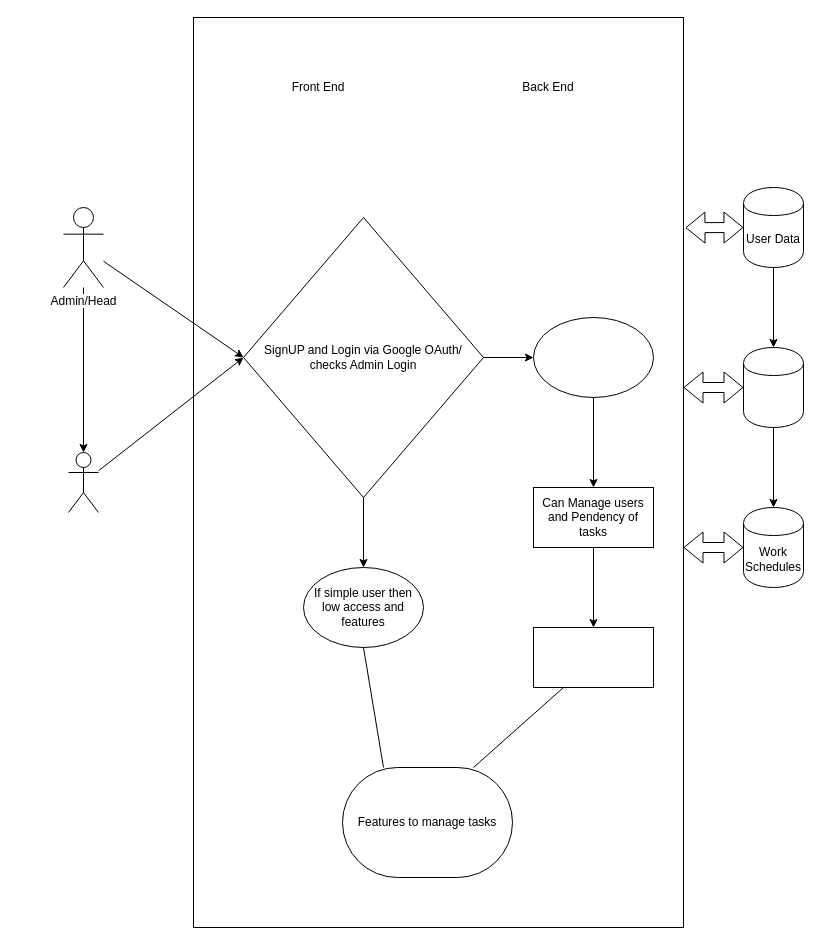
Some shapes in this 821 by 945 pixel diagram are drawn without their labels. The centre of each missing label's shape, as x and y in pixels:
A normal User/Employee: pixel 83 482
Add material that might be required to finish the task: pixel 593 657
IF Admin Then Access to Admin Panel: pixel 593 357
Task Schedules: pixel 773 387
